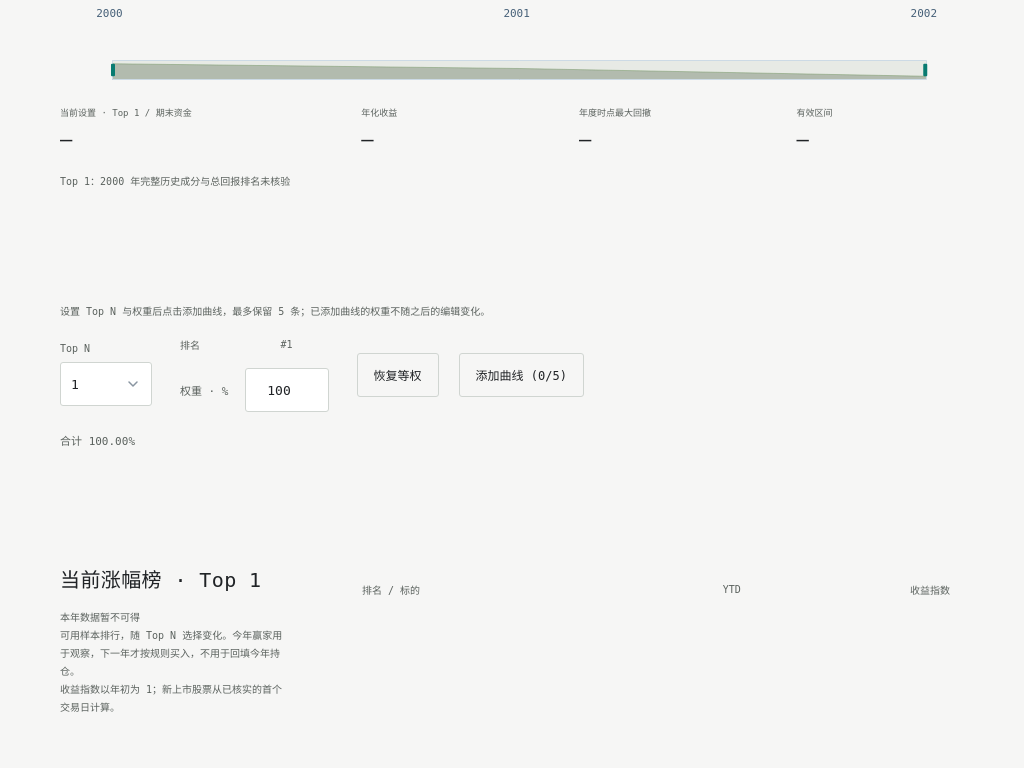
Scenario: share button removed and rank weights are editable
(page scrolled)
Select "2" in the dropdown labelled "Top N" at [106, 384], box top-left (60, 362), bottom-right (152, 406)
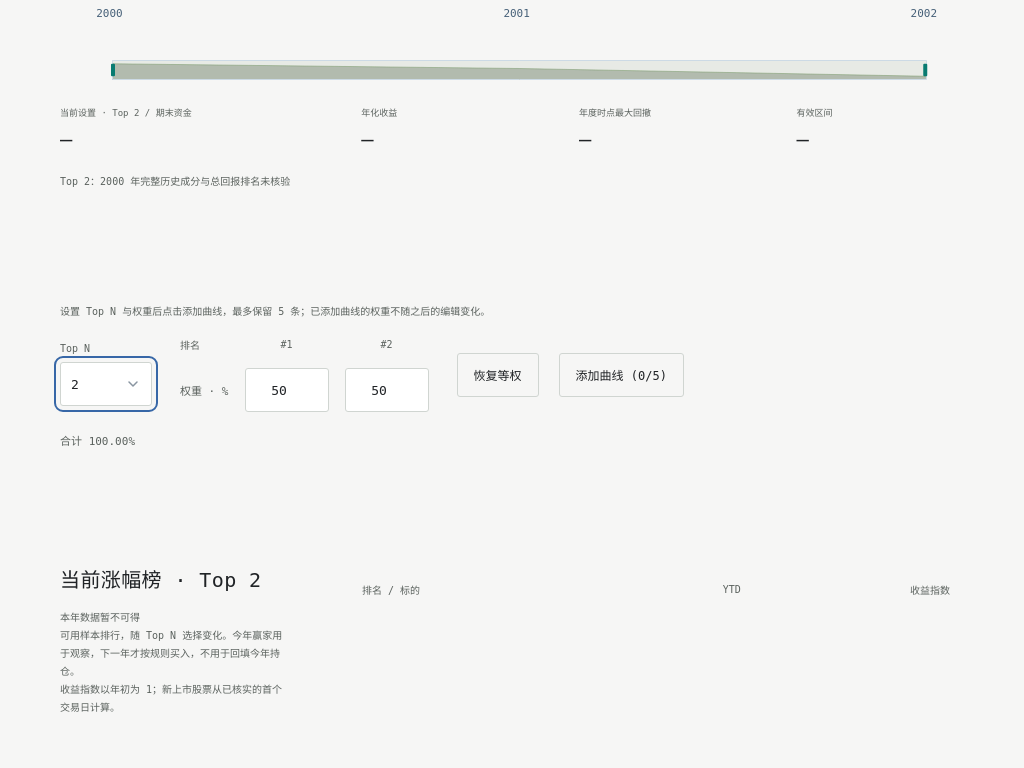
Expected: the number field named "第1名权重" holds "50"
Expected: the number field named "第2名权重" holds "50", top-left (344, 368), bottom-right (428, 412)
Clear the number field named "第1名权重" at [286, 390], box top-left (244, 368), bottom-right (328, 412)
(page scrolled)
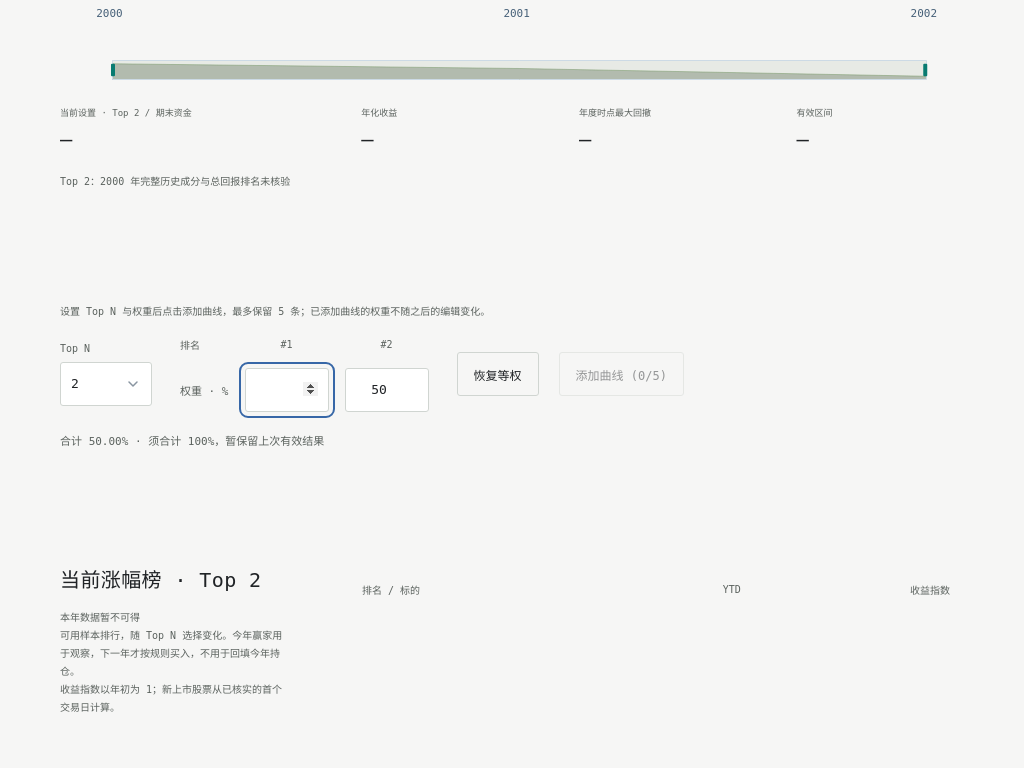
Type "70" into the number field named "第1名权重" at [286, 390], box top-left (244, 368), bottom-right (328, 412)
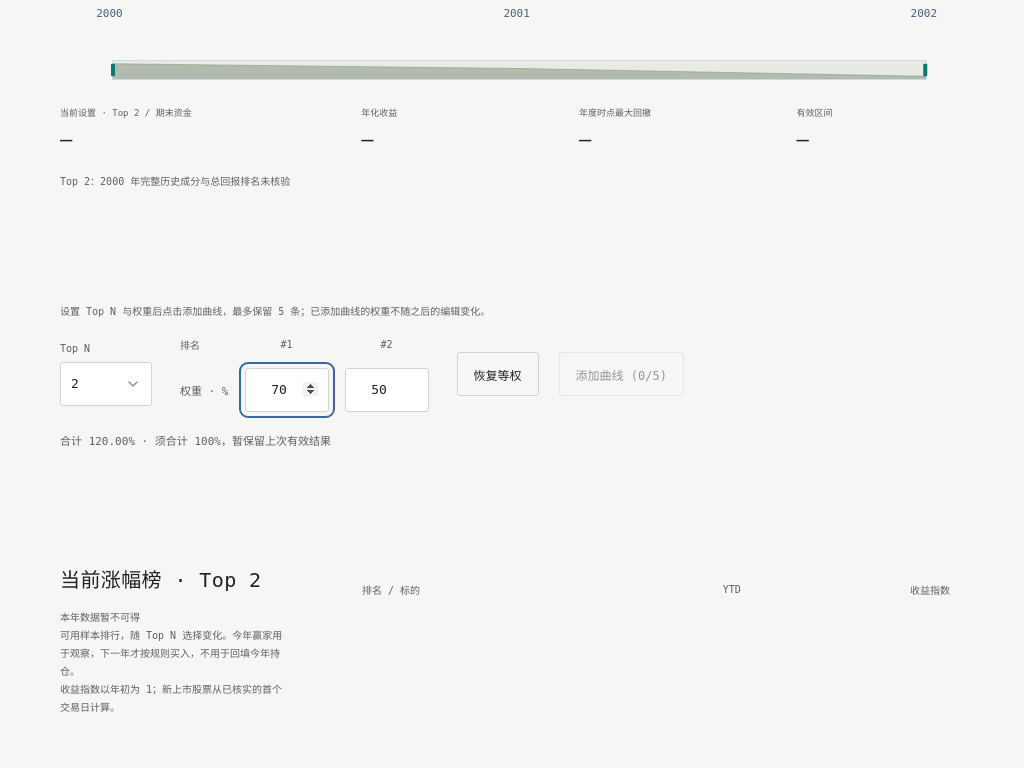
Replace the text in the number field named "第2名权重" with "30" at [386, 390], box top-left (344, 368), bottom-right (428, 412)
(page scrolled)
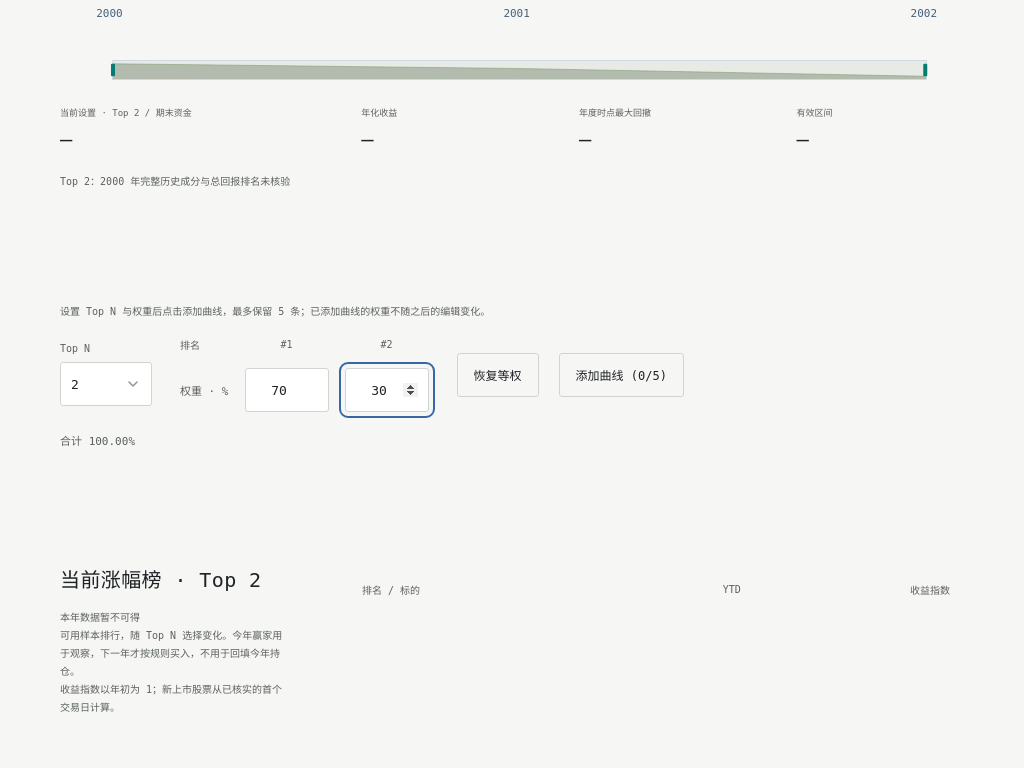
Click the button "恢复等权" at [498, 374], box top-left (456, 352), bottom-right (538, 396)
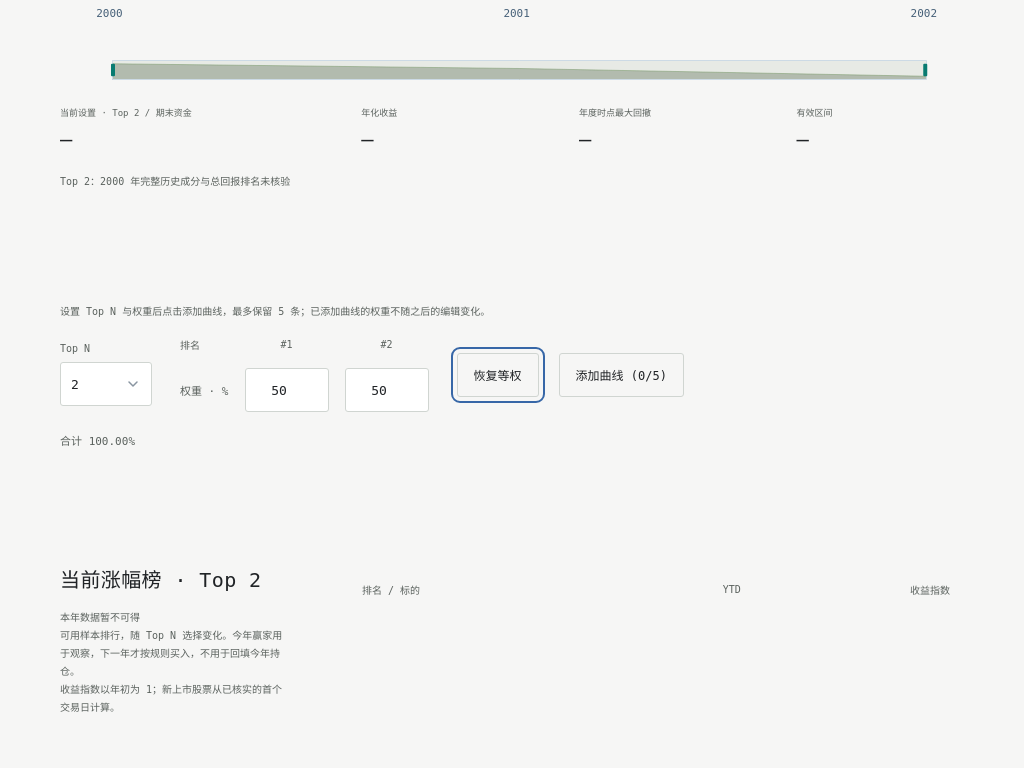
Expected: the number field named "第1名权重" holds "50", top-left (244, 368), bottom-right (328, 412)
